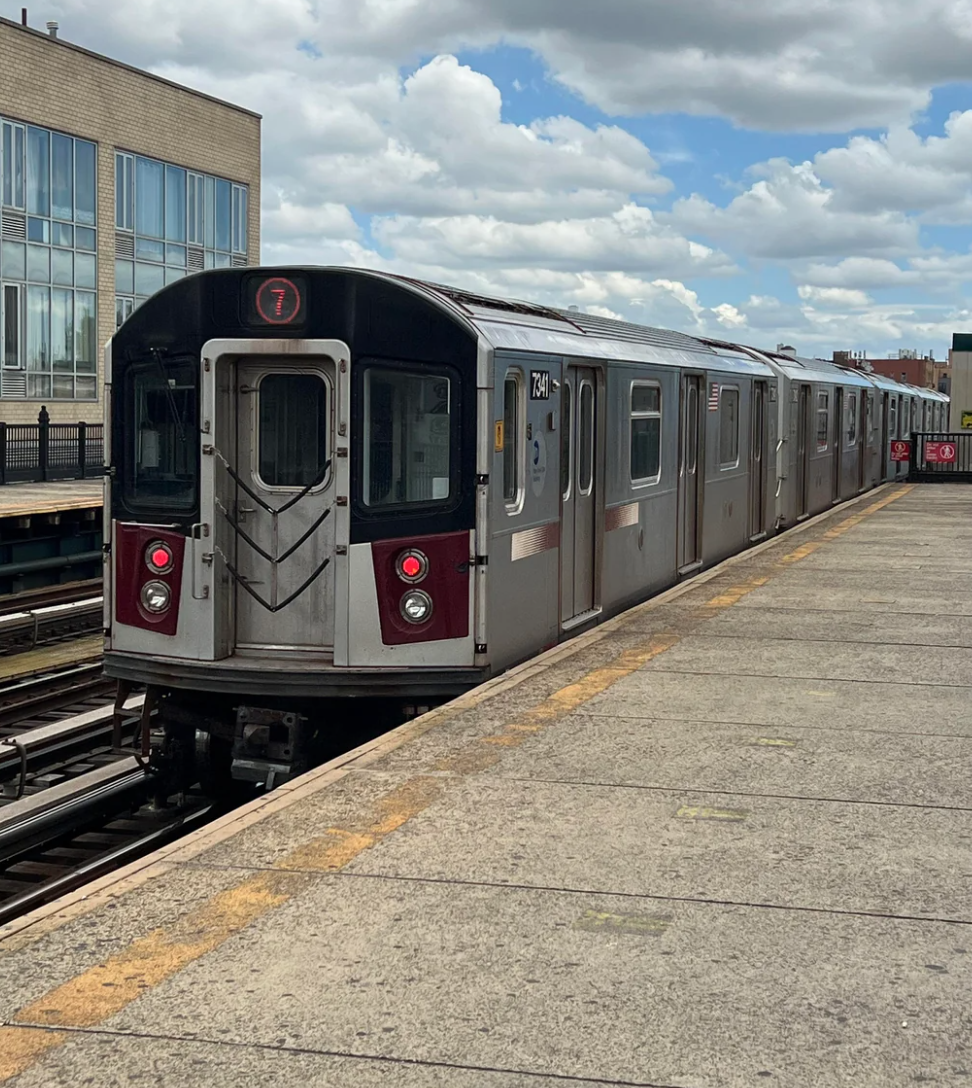train: (92, 267, 503, 692)
